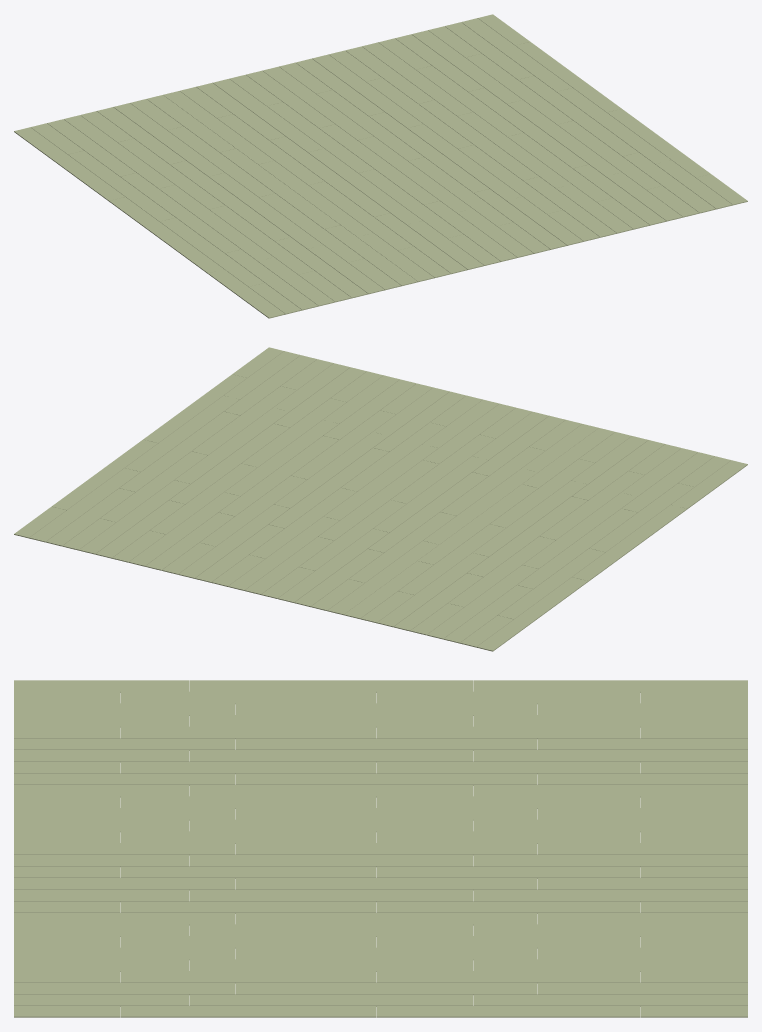
The model's file is Office2_parquet1.fbx.
The picture shows the model from 3 angles, top to bottom: view 1: azimuth 30°, elevation 25°; view 2: azimuth 150°, elevation 25°; view 3: azimuth 270°, elevation 25°; orthographic projection. The views are drawn at different scales.
Visible parts, largest first — view 1: Office2_parquet1; view 2: Office2_parquet1; view 3: Office2_parquet1.
Boxes of the visible parts, <box> form: Office2_parquet1: <box>14,14,747,318</box>; Office2_parquet1: <box>14,347,747,651</box>; Office2_parquet1: <box>14,680,747,1017</box>.
Bounding box in the file's own units: 486 × 0.8159 × 448.
